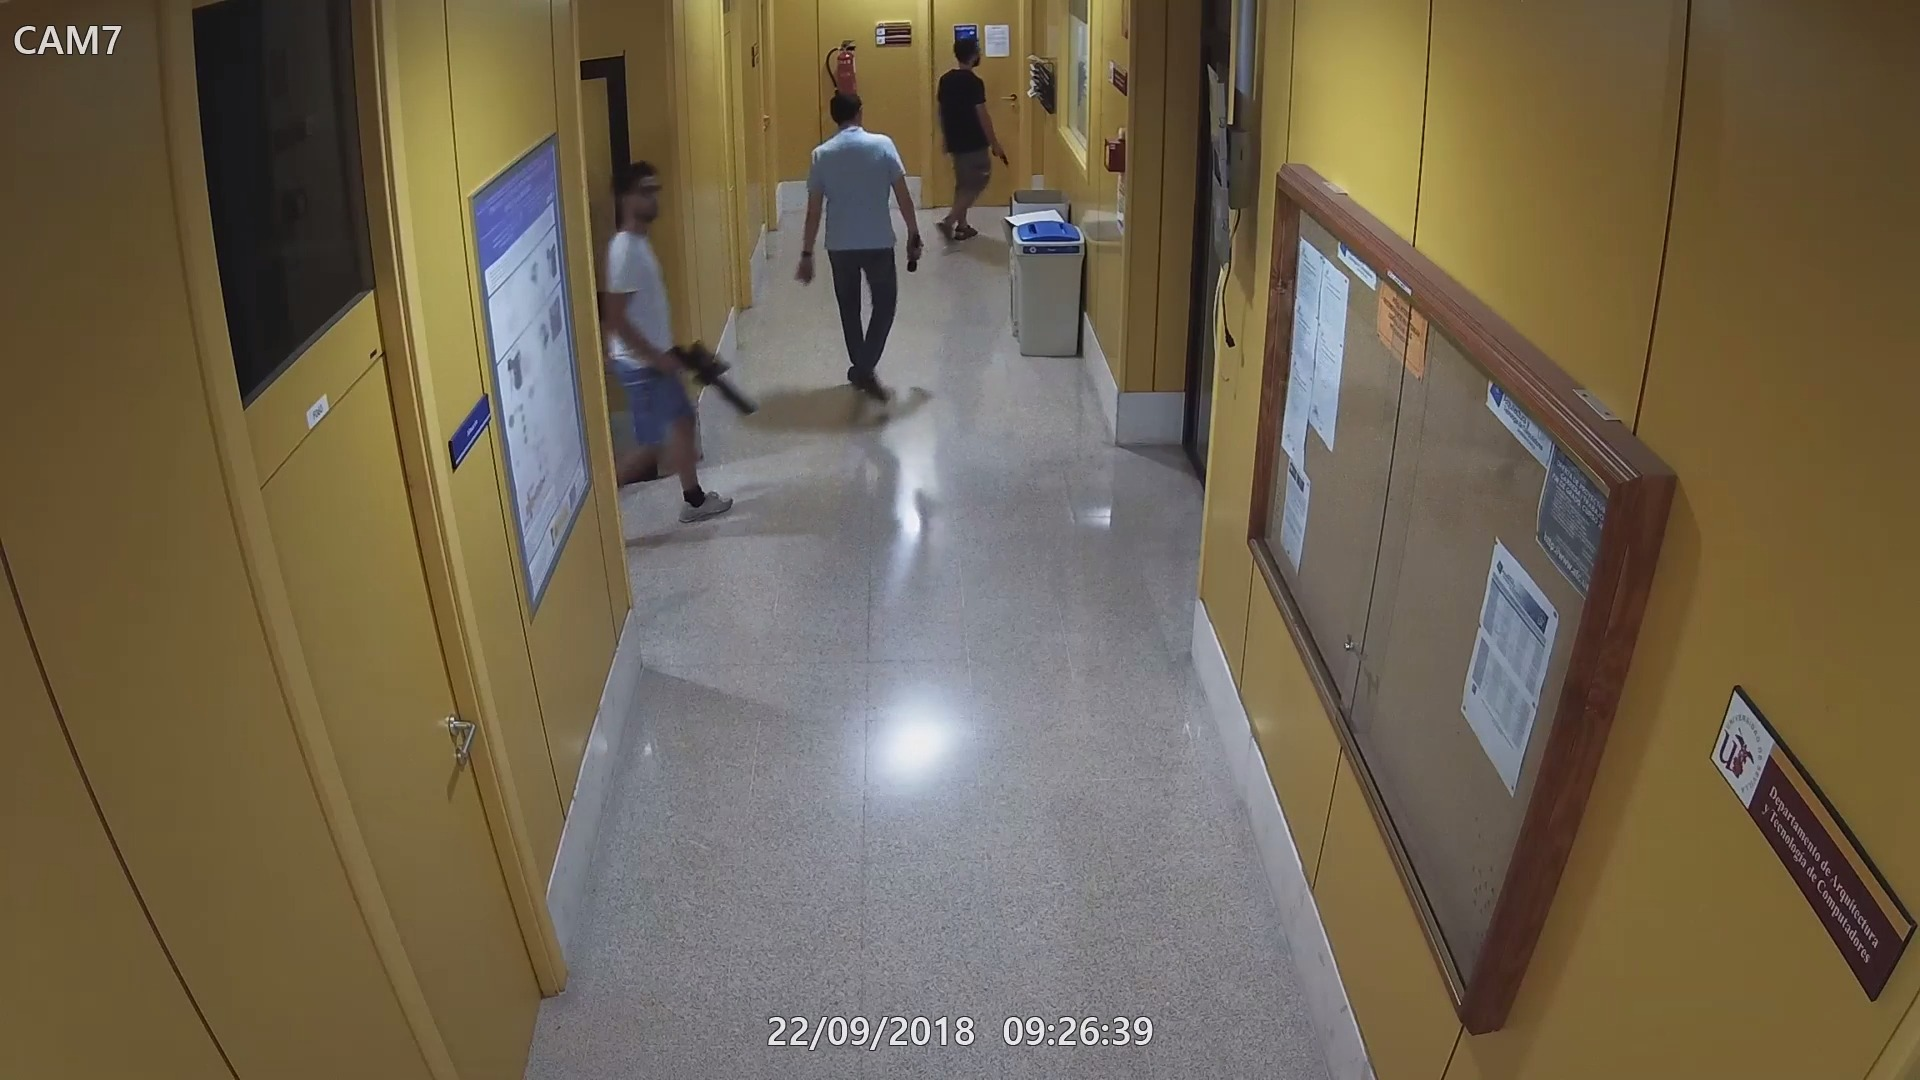Handgun: (984, 140, 1010, 166)
Short_rifle: (661, 342, 760, 421)
